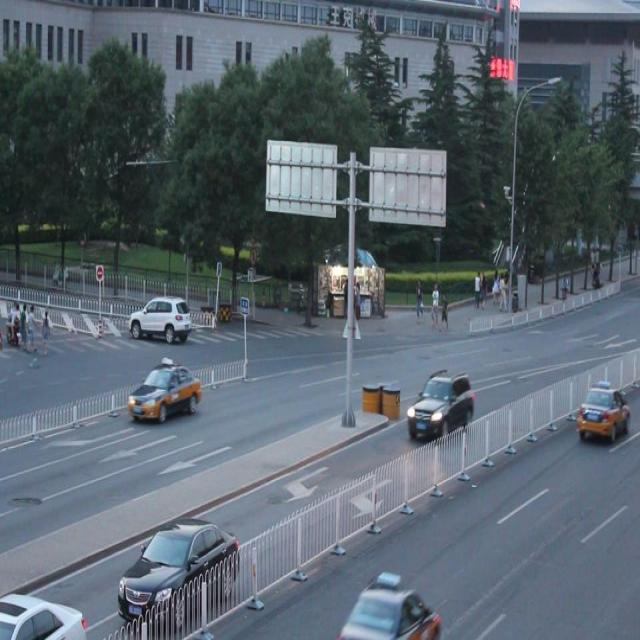car: (119, 519, 240, 632), (340, 576, 441, 640), (404, 369, 476, 442), (128, 361, 202, 421), (0, 592, 86, 640), (128, 295, 193, 345), (577, 380, 631, 438)
